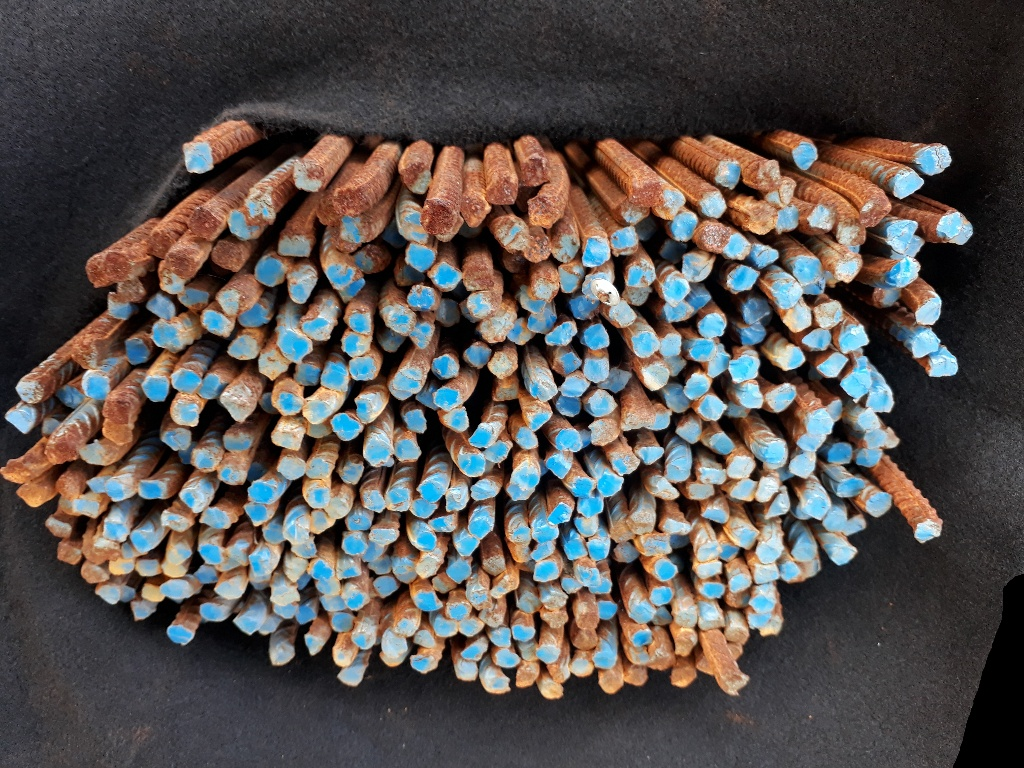dipstick: (487, 214, 528, 252), (240, 185, 276, 227), (220, 381, 257, 421), (330, 214, 365, 251), (276, 329, 314, 363), (69, 336, 105, 371), (477, 310, 514, 344), (188, 208, 226, 241), (916, 143, 955, 175), (293, 160, 330, 193), (287, 263, 316, 305), (551, 224, 581, 263), (181, 141, 217, 173), (257, 347, 291, 380), (421, 200, 452, 236), (882, 219, 918, 250), (213, 239, 245, 273), (45, 433, 79, 465), (355, 244, 390, 275), (630, 180, 667, 209), (764, 381, 797, 413), (268, 573, 302, 604), (467, 290, 503, 319), (885, 257, 923, 284), (522, 227, 552, 261), (405, 242, 439, 272), (656, 187, 686, 221), (489, 566, 519, 600), (253, 255, 287, 285), (216, 286, 250, 316), (331, 188, 370, 214), (1, 458, 38, 485), (319, 360, 350, 392), (488, 175, 518, 208), (166, 250, 199, 280), (581, 272, 614, 302), (699, 222, 732, 252), (728, 354, 761, 384), (725, 263, 759, 292), (329, 411, 364, 439), (102, 418, 137, 446), (147, 227, 177, 259), (773, 276, 803, 308), (784, 302, 814, 334), (568, 293, 602, 321), (4, 406, 38, 434), (101, 399, 136, 426), (519, 154, 549, 185), (527, 196, 557, 227), (748, 204, 778, 235), (859, 198, 889, 229), (893, 169, 924, 199), (682, 250, 712, 281), (766, 176, 795, 208), (664, 380, 693, 412), (545, 316, 577, 345), (782, 559, 819, 584), (581, 235, 609, 268), (157, 260, 185, 293), (633, 532, 673, 555), (467, 574, 491, 612), (237, 302, 272, 328), (698, 190, 728, 220), (759, 438, 789, 468), (171, 398, 201, 428), (611, 226, 640, 257), (793, 254, 824, 283), (607, 299, 638, 328), (82, 370, 111, 401), (403, 162, 431, 194), (669, 211, 697, 243), (427, 263, 460, 290), (722, 233, 755, 260), (736, 380, 769, 407), (340, 330, 373, 357), (201, 310, 234, 337), (178, 286, 211, 313), (300, 315, 334, 341), (398, 213, 428, 242), (944, 215, 973, 245), (661, 276, 691, 305), (152, 321, 181, 351), (463, 195, 491, 226), (838, 324, 869, 352), (589, 418, 620, 446), (363, 439, 394, 467), (619, 198, 651, 225), (792, 138, 819, 170), (85, 252, 110, 286), (816, 353, 850, 378), (226, 335, 260, 360), (507, 317, 536, 346), (805, 202, 835, 230), (836, 219, 866, 247), (697, 393, 727, 421), (619, 407, 654, 431), (489, 351, 519, 379), (105, 250, 132, 281), (753, 159, 780, 190), (626, 510, 657, 537), (479, 596, 506, 627), (482, 666, 513, 693), (463, 265, 495, 291), (630, 331, 662, 357), (586, 389, 618, 415), (348, 354, 380, 380), (214, 574, 246, 600), (912, 518, 945, 543), (271, 426, 304, 451), (767, 486, 791, 520), (597, 368, 631, 392), (144, 295, 178, 319), (246, 480, 280, 504), (890, 235, 927, 257), (640, 362, 669, 390), (530, 276, 560, 303), (865, 492, 895, 519), (696, 310, 726, 337), (652, 555, 679, 585), (143, 373, 170, 403), (224, 539, 254, 566), (916, 295, 942, 326), (706, 348, 732, 379), (407, 284, 438, 310), (393, 367, 424, 393), (16, 482, 47, 508), (624, 262, 656, 287), (665, 298, 697, 323), (648, 477, 680, 502), (539, 604, 571, 629), (81, 533, 106, 565), (343, 508, 376, 532), (815, 300, 843, 328), (841, 371, 870, 398), (582, 323, 611, 350), (512, 462, 539, 491), (445, 557, 474, 584), (393, 436, 422, 463), (387, 308, 416, 335), (834, 476, 868, 499), (325, 264, 359, 287), (559, 264, 585, 294), (684, 370, 710, 400), (689, 337, 719, 363), (671, 627, 697, 657), (381, 630, 411, 656), (249, 546, 279, 572), (196, 374, 226, 400), (106, 291, 132, 321), (106, 476, 136, 502), (751, 244, 782, 269), (277, 235, 313, 256), (836, 256, 863, 284), (464, 341, 491, 369), (552, 348, 581, 374), (276, 455, 305, 481), (829, 542, 859, 567), (172, 368, 202, 393), (16, 380, 46, 405), (716, 159, 740, 190), (623, 281, 654, 305), (560, 372, 591, 396), (336, 277, 367, 301), (223, 429, 254, 453), (470, 478, 502, 501), (773, 204, 800, 231), (805, 494, 832, 521), (791, 452, 818, 479), (529, 308, 557, 334), (275, 389, 303, 415), (233, 608, 259, 636), (46, 516, 74, 542), (934, 213, 963, 238), (913, 330, 942, 355), (741, 298, 770, 323), (676, 418, 705, 443), (444, 483, 469, 512), (218, 460, 247, 485), (803, 328, 833, 352), (515, 658, 539, 688), (552, 393, 582, 417), (114, 278, 145, 301), (668, 665, 699, 688), (164, 623, 195, 646), (160, 510, 191, 533), (129, 530, 160, 553), (77, 441, 108, 464), (730, 475, 756, 502), (722, 674, 749, 700), (530, 376, 557, 402), (411, 523, 438, 549), (415, 553, 442, 579), (294, 361, 321, 387), (94, 535, 120, 562), (732, 525, 760, 550), (576, 601, 601, 629), (424, 513, 459, 533), (391, 557, 416, 585), (56, 539, 84, 564), (867, 389, 896, 413), (584, 355, 608, 384), (413, 589, 442, 613), (441, 407, 470, 431), (504, 481, 537, 502), (481, 553, 511, 576), (285, 553, 308, 583), (267, 643, 297, 666), (161, 428, 191, 451), (530, 559, 561, 581), (302, 458, 333, 480), (377, 330, 408, 352), (728, 454, 754, 480), (309, 509, 335, 535), (244, 501, 270, 527), (192, 446, 218, 472), (58, 472, 84, 498), (649, 647, 676, 672), (341, 532, 368, 557), (325, 493, 350, 520), (874, 283, 902, 307), (698, 463, 730, 484), (673, 605, 701, 629), (282, 518, 310, 542), (180, 486, 208, 510), (164, 540, 192, 564), (125, 338, 149, 366), (628, 601, 657, 624), (484, 440, 513, 463), (486, 626, 515, 649), (659, 515, 692, 535), (346, 311, 376, 333), (54, 385, 84, 407), (743, 321, 768, 347), (547, 453, 572, 479), (355, 396, 381, 421), (362, 487, 388, 512), (102, 516, 127, 542), (503, 250, 530, 274), (806, 410, 833, 434), (687, 283, 711, 310), (575, 565, 602, 589), (459, 452, 486, 476), (371, 576, 398, 600), (335, 556, 362, 580), (931, 354, 959, 377), (626, 644, 654, 667), (556, 428, 584, 451), (541, 588, 569, 611), (416, 480, 444, 503), (81, 562, 109, 585), (709, 430, 738, 452), (492, 647, 521, 669), (300, 398, 329, 420), (797, 430, 827, 451), (686, 480, 716, 501), (524, 409, 554, 430), (200, 602, 230, 623), (386, 487, 411, 512), (821, 506, 847, 530), (598, 473, 624, 497), (303, 485, 329, 509), (261, 519, 285, 545), (591, 646, 618, 669), (572, 628, 599, 651), (461, 637, 488, 660), (342, 587, 369, 610), (366, 553, 393, 576), (410, 321, 433, 348), (162, 580, 193, 600), (699, 579, 727, 601), (724, 622, 752, 644), (609, 521, 637, 543), (570, 476, 598, 498), (71, 496, 99, 518), (634, 444, 663, 465), (614, 454, 643, 475), (753, 564, 782, 585), (319, 593, 351, 612), (782, 346, 806, 371), (857, 406, 882, 430), (855, 447, 885, 467), (646, 587, 676, 607), (598, 668, 622, 693), (546, 502, 571, 526), (547, 658, 572, 682), (403, 409, 427, 434), (313, 576, 343, 596), (827, 442, 853, 465), (573, 514, 599, 537), (459, 615, 485, 638), (432, 355, 458, 378), (339, 461, 365, 484), (291, 536, 317, 559), (745, 607, 772, 629), (453, 535, 480, 557), (302, 420, 333, 439), (578, 496, 606, 517), (469, 427, 497, 448), (445, 600, 473, 621), (411, 498, 439, 519), (337, 666, 365, 687), (613, 542, 641, 563), (200, 508, 229, 528), (716, 538, 740, 562), (758, 613, 782, 637), (436, 300, 460, 324), (515, 426, 538, 451), (95, 581, 120, 604), (494, 380, 520, 402), (432, 615, 458, 637), (531, 522, 561, 541), (751, 593, 778, 614), (139, 478, 166, 499), (409, 653, 437, 673), (757, 540, 781, 563), (586, 538, 610, 561), (660, 333, 682, 358), (647, 404, 669, 429), (666, 462, 691, 484), (413, 628, 438, 650), (197, 543, 222, 565), (702, 502, 728, 523), (467, 517, 493, 538), (695, 542, 722, 562), (431, 572, 458, 592), (193, 564, 221, 583), (517, 592, 540, 615), (260, 613, 283, 636), (724, 587, 748, 609), (455, 659, 479, 681), (569, 656, 594, 677), (511, 622, 536, 643), (309, 558, 334, 579), (586, 577, 615, 595), (329, 612, 355, 632), (130, 600, 156, 620), (360, 542, 387, 561), (693, 562, 727, 577), (730, 572, 753, 594), (517, 638, 539, 661), (259, 391, 281, 414), (528, 540, 556, 558), (371, 528, 399, 546), (434, 387, 458, 408), (843, 513, 869, 532), (624, 665, 650, 684), (393, 618, 419, 637), (303, 634, 325, 656), (664, 355, 687, 376), (537, 643, 560, 664), (792, 540, 816, 560), (698, 617, 728, 633), (629, 626, 653, 646), (542, 681, 566, 701), (135, 558, 163, 575), (141, 582, 166, 601), (506, 523, 532, 541), (272, 602, 298, 620), (597, 601, 619, 622), (332, 646, 354, 667), (509, 542, 532, 562), (85, 476, 112, 493), (352, 631, 376, 650), (57, 496, 81, 515), (883, 424, 901, 449), (161, 561, 189, 577), (651, 606, 672, 627), (39, 416, 62, 435), (121, 539, 145, 557), (110, 557, 135, 574), (378, 652, 408, 666), (295, 605, 317, 624), (560, 576, 584, 593), (865, 429, 885, 449), (247, 462, 267, 482), (667, 533, 691, 549), (827, 398, 842, 422), (118, 583, 136, 603)
